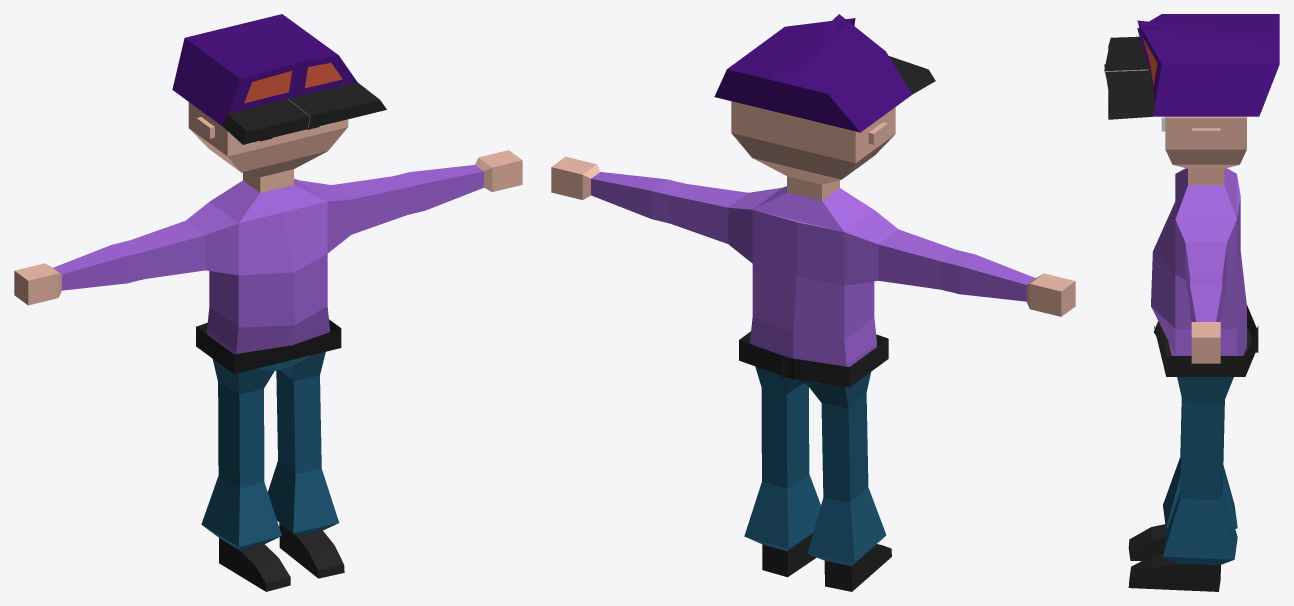
The model's file is Char4.gltf.
The picture shows the model from 3 angles, left to right: view 1: azimuth 30°, elevation 25°; view 2: azimuth 150°, elevation 25°; view 3: azimuth 270°, elevation 25°; orthographic projection. The views are drawn at different scales.
Parts seen in each view (by area): view 1: Cube; view 2: Cube; view 3: Cube.
Boxes of the visible parts, <box> form: Cube: <box>14,14,522,591</box>; Cube: <box>551,14,1075,591</box>; Cube: <box>1104,14,1279,591</box>.
Bounding box in the file's own units: 33.86 × 34 × 9.92.
1 material, 1 textured.
